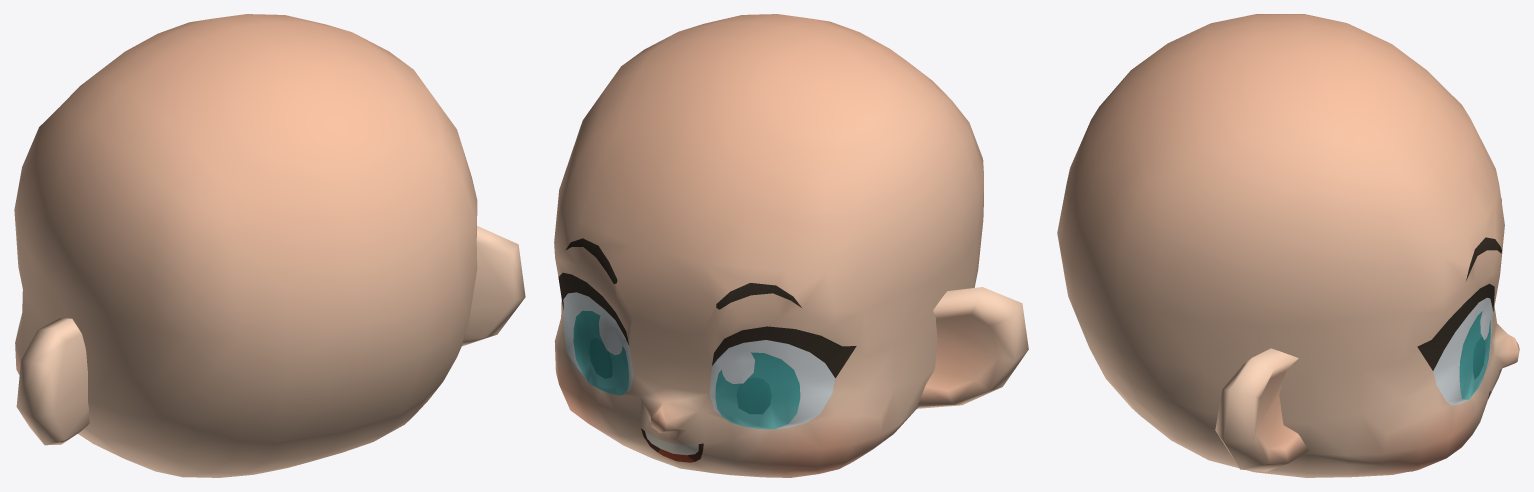
Rendered from FaceFemale_4.fbx.
3 views of the same model, side by side, from view 1: azimuth 30°, elevation 25°; view 2: azimuth 150°, elevation 25°; view 3: azimuth 270°, elevation 25° (orthographic). The views are drawn at different scales.
Visible parts, largest first — view 1: FaceFemale_4; view 2: FaceFemale_4; view 3: FaceFemale_4.
Part boxes in pixels (<box>): FaceFemale_4: <box>14,14,525,477</box>; FaceFemale_4: <box>554,14,1028,477</box>; FaceFemale_4: <box>1057,14,1519,477</box>.
Bounding box in the file's own units: 81.66 × 66.4 × 68.58.
